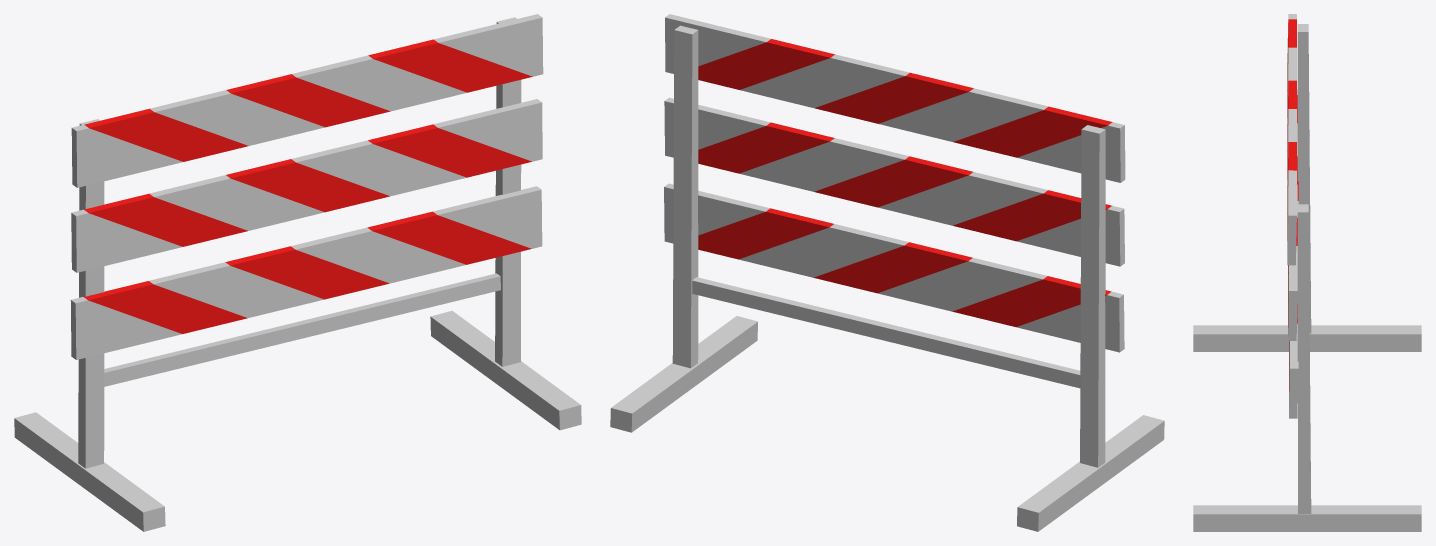
Rendered from Barrier-04.fbx.
3 views of the same model, side by side, from view 1: azimuth 30°, elevation 25°; view 2: azimuth 150°, elevation 25°; view 3: azimuth 270°, elevation 25° (orthographic). The views are drawn at different scales.
Parts seen in each view (by area): view 1: Barrier-04; view 2: Barrier-04; view 3: Barrier-04.
Boxes of the visible parts, box(x1,y1,x2,y2) form: Barrier-04: box(14, 14, 581, 531); Barrier-04: box(610, 14, 1164, 531); Barrier-04: box(1193, 14, 1421, 531).
Size of what is drawn, in the model's own units: 1.77 by 1.32 by 0.848.
